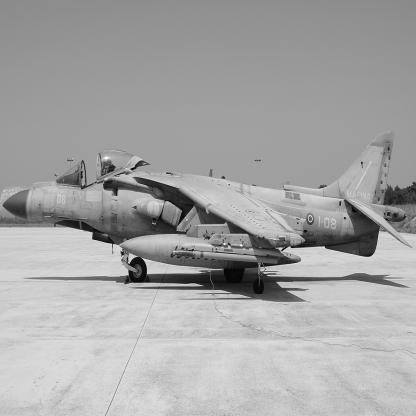AV8B: (3, 131, 414, 296)
